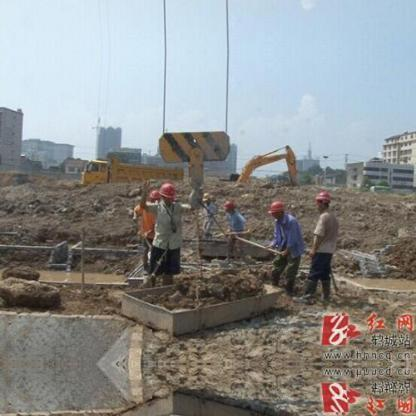helmet: (265, 199, 291, 215), (160, 183, 177, 199), (314, 192, 333, 205), (223, 200, 236, 210), (202, 191, 212, 202), (149, 190, 161, 198)
